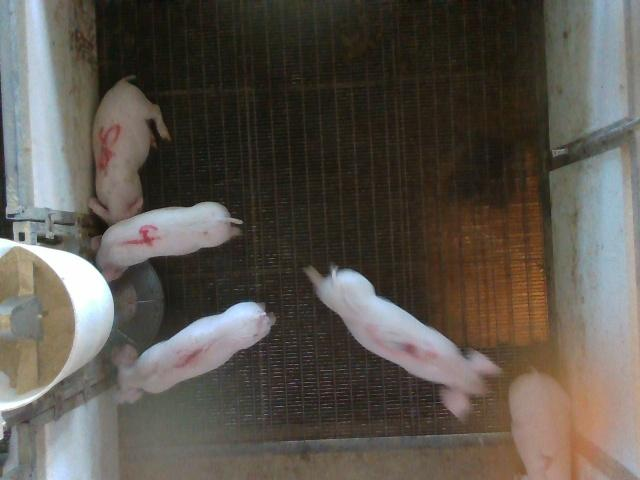pig-1: (112, 302, 275, 402)
pig-3: (304, 265, 501, 419)
pig-4: (96, 202, 241, 281)
pig-5: (89, 75, 170, 225)
